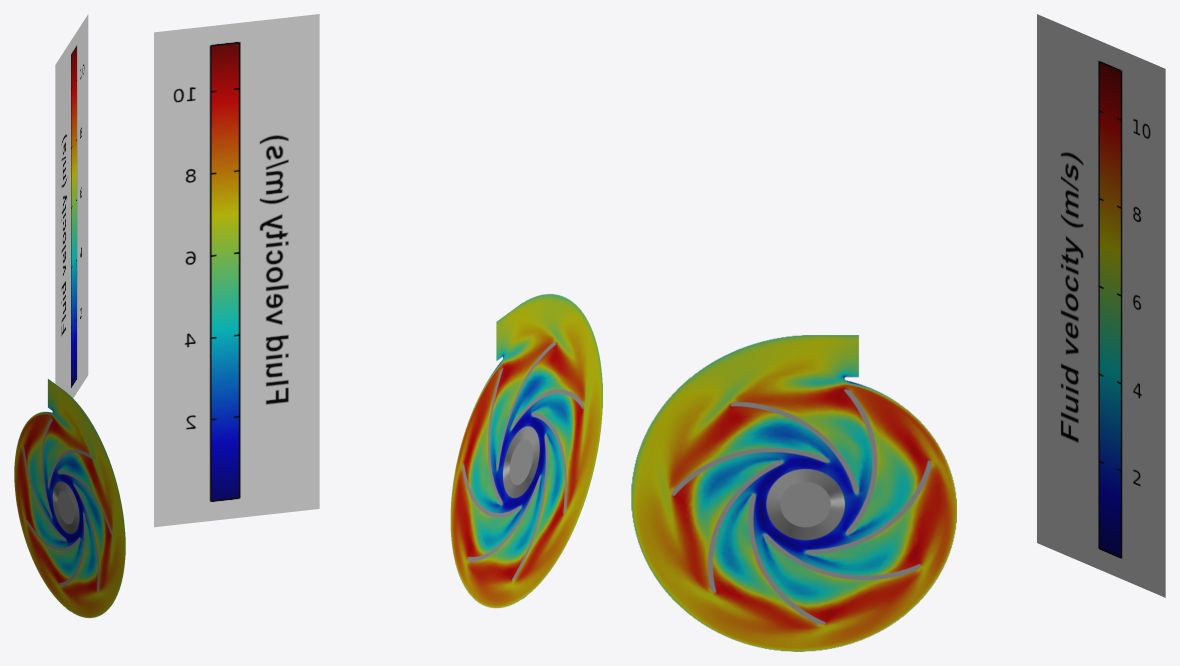
File: P2Vlong01.glb
3 renders of one model, left to right at view 1: azimuth 30°, elevation 25°; view 2: azimuth 150°, elevation 25°; view 3: azimuth 270°, elevation 25°, orthographic. The views are drawn at different scales.
Parts seen in each view (by area): view 1: velocity map long P2 v1, Vscale; view 2: Vscale, velocity map long P2 v1; view 3: velocity map long P2 v1, Vscale.
Part boxes in pixels (<box>): velocity map long P2 v1: <box>14,379,125,618</box>; Vscale: <box>55,14,88,398</box>; Vscale: <box>154,14,319,527</box>; velocity map long P2 v1: <box>450,294,602,608</box>; velocity map long P2 v1: <box>631,335,956,651</box>; Vscale: <box>1037,14,1165,597</box>.
Bounding box in the file's own units: 0.1801 × 0.5563 × 0.3922.
Materials: 2 (2 with a texture image).
